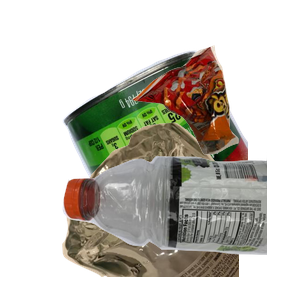glass: (60, 120, 300, 300)
metal: (60, 48, 300, 228)
plastic: (60, 152, 300, 300)
trash: (130, 43, 300, 190)
